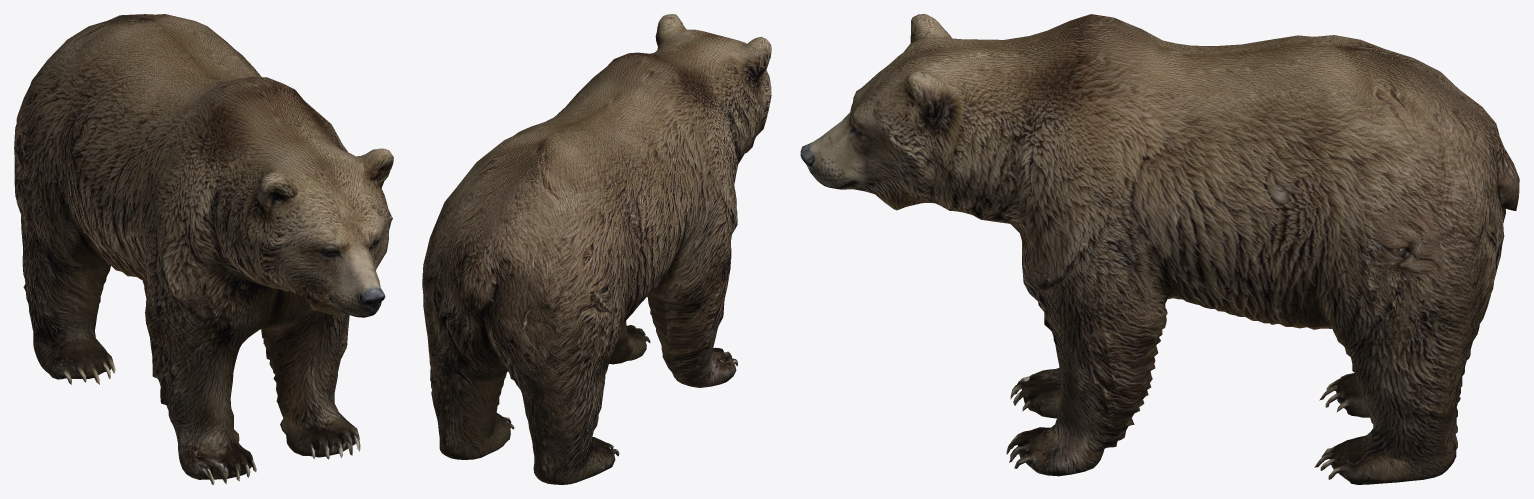
The model's file is urso.glb.
The picture shows the model from 3 angles, left to right: view 1: azimuth 30°, elevation 25°; view 2: azimuth 150°, elevation 25°; view 3: azimuth 270°, elevation 25°; orthographic projection. The views are drawn at different scales.
Parts seen in each view (by area): view 1: -9f37-43f9-890b-dd3649beea28_1; view 2: -9f37-43f9-890b-dd3649beea28_1; view 3: -9f37-43f9-890b-dd3649beea28_1.
Boxes of the visible parts, x1,y1,x2,y2 form: -9f37-43f9-890b-dd3649beea28_1: [14, 14, 393, 484]; -9f37-43f9-890b-dd3649beea28_1: [422, 14, 771, 484]; -9f37-43f9-890b-dd3649beea28_1: [800, 14, 1519, 484].
Size of the model in its own units: 0.3809 by 0.6281 by 1.
1 material, 1 textured.
